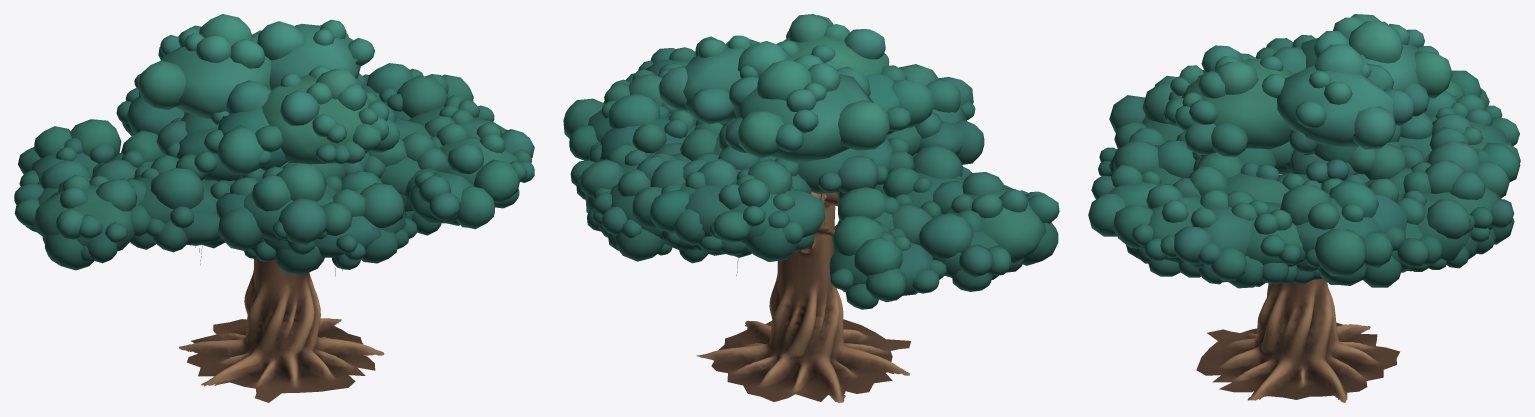
File: arvore-mae-gomospintada-leve.glb
3 renders of one model, left to right at view 1: azimuth 30°, elevation 25°; view 2: azimuth 150°, elevation 25°; view 3: azimuth 270°, elevation 25°, orthographic. The views are drawn at different scales.
Visible parts, largest first — view 1: copa_mae, TRONCO_MAE_RAIZ; view 2: copa_mae, TRONCO_MAE_RAIZ; view 3: copa_mae, TRONCO_MAE_RAIZ.
Part boxes in pixels (<box>): copa_mae: <box>14,14,534,275</box>; TRONCO_MAE_RAIZ: <box>179,245,384,402</box>; copa_mae: <box>563,14,1059,309</box>; TRONCO_MAE_RAIZ: <box>696,192,910,402</box>; copa_mae: <box>1088,14,1520,288</box>; TRONCO_MAE_RAIZ: <box>1196,173,1399,402</box>.
Bounding box in the file's own units: 69.62 × 47.75 × 56.73.
